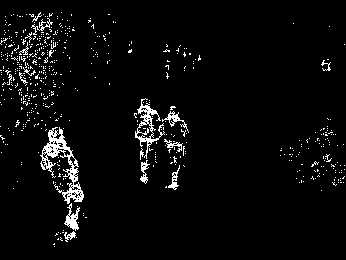person: (38, 126, 86, 243), (156, 104, 189, 191), (133, 96, 162, 185)
